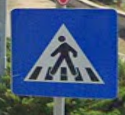trecere_pietoni: (8, 6, 118, 98)
